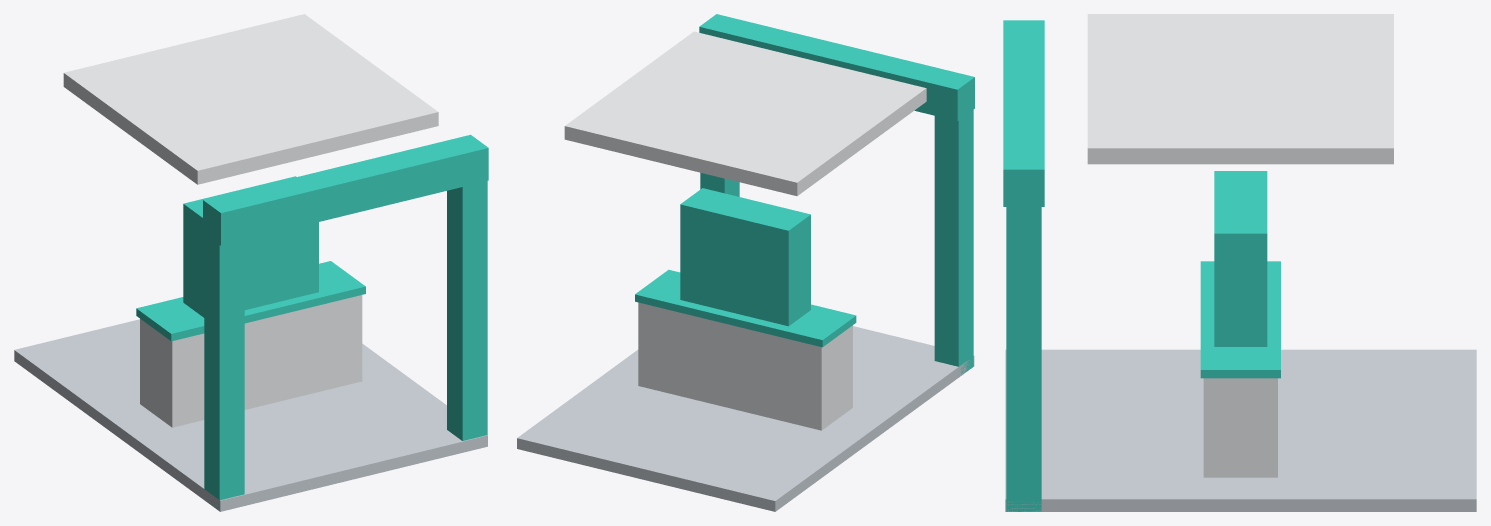
3 renders of one model, left to right at view 1: azimuth 30°, elevation 25°; view 2: azimuth 150°, elevation 25°; view 3: azimuth 270°, elevation 25°, orthographic. The views are drawn at different scales.
Parts seen in each view (by area): view 1: Exhibition Booth Concept; view 2: Exhibition Booth Concept; view 3: Exhibition Booth Concept.
Boxes of the visible parts, left/top/right/bottom form: Exhibition Booth Concept: left=14, top=14, right=488, bottom=511; Exhibition Booth Concept: left=517, top=14, right=974, bottom=511; Exhibition Booth Concept: left=1003, top=14, right=1476, bottom=511.
Bounding box in the file's own units: 3 × 3.34 × 4.02.
